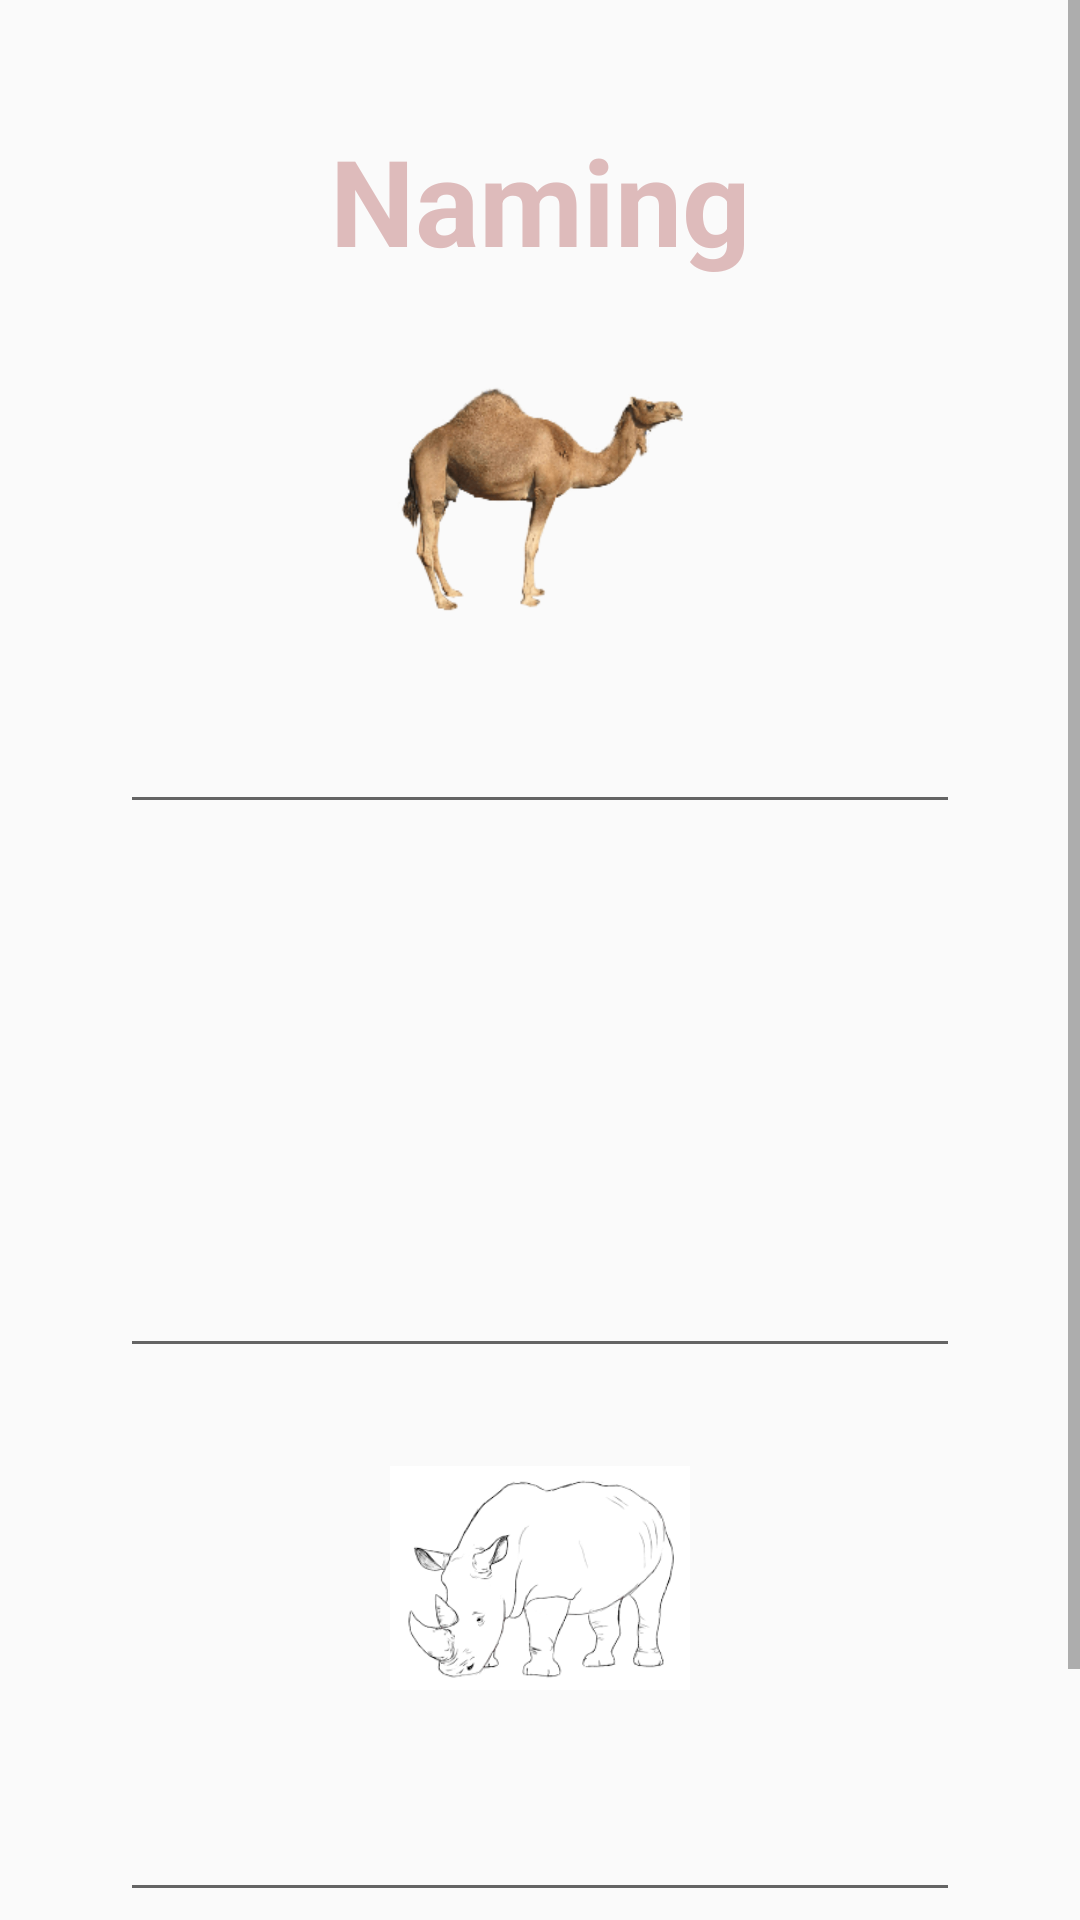

Icon bounding boxes for this 1080*1920 phone screenshot, format box=[x1, y1, x2, y2]:
camel: box=[402, 388, 683, 610]
rhino: box=[408, 1481, 674, 1678]
